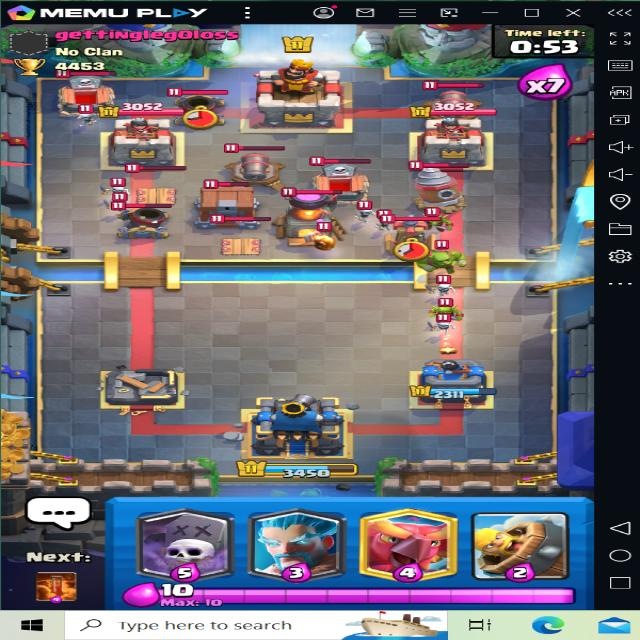Cannon: (216, 139, 298, 194), (417, 78, 485, 128)
Firespirit: (310, 225, 339, 251)
Furnace: (269, 186, 356, 244)
Goblin: (417, 207, 452, 230), (430, 299, 462, 323)
Goblinbrawler: (414, 237, 474, 275)
Goblincage: (181, 178, 268, 231)
Goblindrill: (406, 159, 466, 212)
Mortar: (106, 195, 174, 243), (166, 84, 230, 126)
Skeleton: (427, 315, 455, 337), (352, 200, 377, 224), (430, 274, 455, 296), (107, 176, 132, 196), (76, 108, 105, 123)
Tesla: (382, 212, 438, 256)
Teslahidden: (123, 156, 187, 208), (209, 212, 277, 256)
Tombstone: (56, 70, 128, 117), (308, 153, 376, 200)
